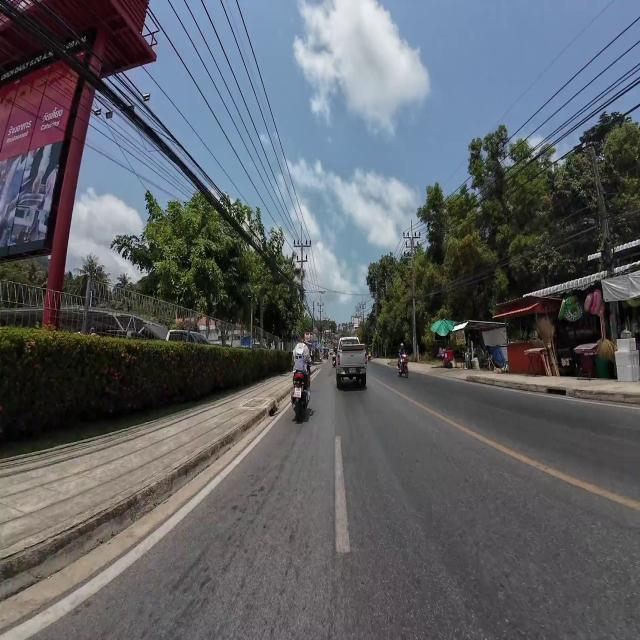car: (334, 334, 370, 393)
motorcycle: (292, 371, 309, 422), (398, 354, 408, 377), (332, 354, 336, 367)
